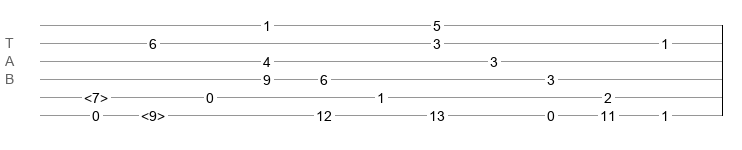0: (92, 108, 100, 118), (206, 90, 214, 100), (547, 108, 555, 118)
1: (263, 18, 271, 28), (377, 90, 385, 100), (661, 36, 669, 46), (661, 108, 669, 118)
11: (600, 108, 616, 118)
12: (316, 108, 332, 118)
13: (429, 108, 445, 118)
2: (604, 90, 612, 100)
3: (433, 36, 441, 46), (490, 54, 498, 64), (547, 72, 555, 82)
4: (263, 54, 271, 64)
5: (433, 18, 441, 28)
6: (149, 36, 157, 46), (320, 72, 328, 82)
9: (263, 72, 271, 82)
harmonic: (84, 90, 108, 100), (141, 108, 165, 118)
